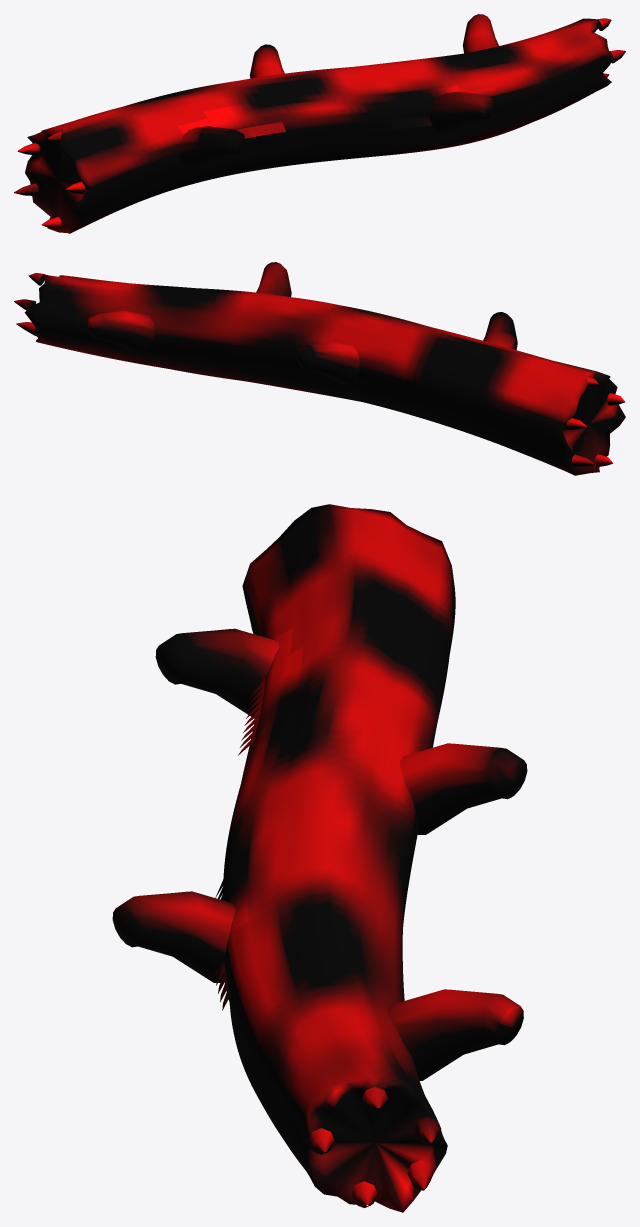
Rendered from SM_FallenLogStump_00.fbx.
3 renders of one model, top to bottom at view 1: azimuth 30°, elevation 25°; view 2: azimuth 150°, elevation 25°; view 3: azimuth 270°, elevation 25°, orthographic. The views are drawn at different scales.
Parts seen in each view (by area): view 1: SM_FallenLogStump_00; view 2: SM_FallenLogStump_00; view 3: SM_FallenLogStump_00.
Boxes of the visible parts, left/top/right/bottom form: SM_FallenLogStump_00: left=14, top=14, right=625, bottom=233; SM_FallenLogStump_00: left=14, top=262, right=625, bottom=475; SM_FallenLogStump_00: left=112, top=504, right=527, bottom=1212.
Bounding box in the file's own units: 550 × 170 × 92.82.
